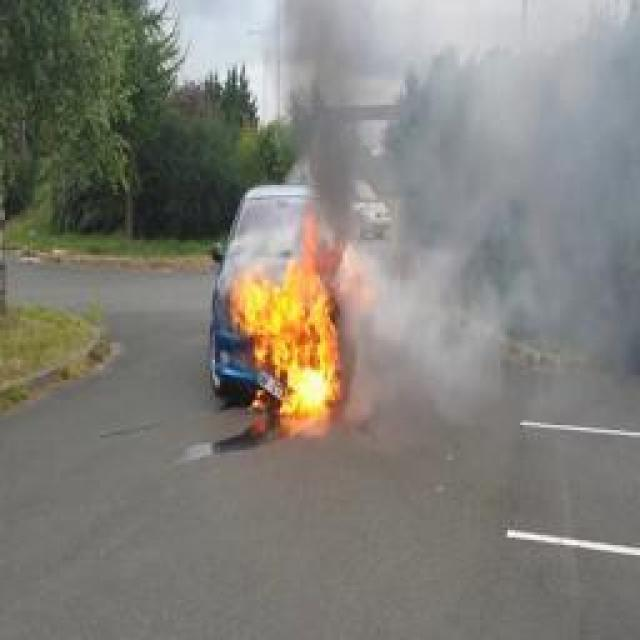Fire: (228, 208, 346, 438)
